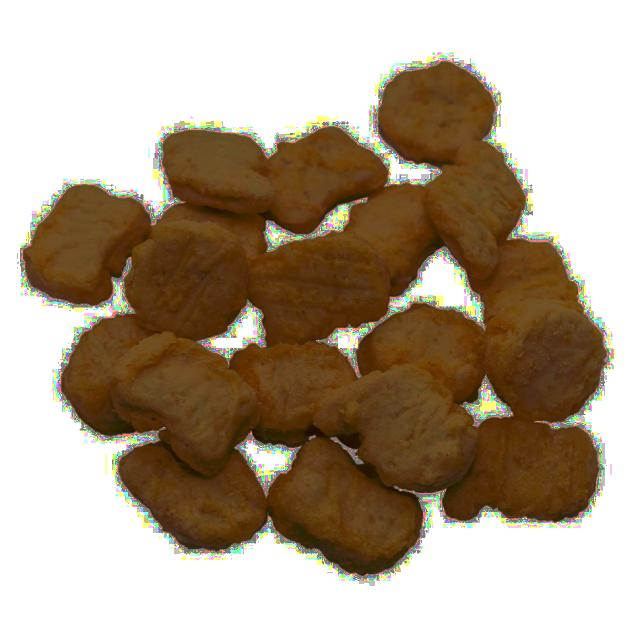chicken_nuggets: (265, 426, 424, 588), (302, 360, 478, 495), (436, 411, 602, 554), (112, 332, 250, 473), (26, 164, 148, 321), (246, 231, 396, 354), (366, 41, 501, 172), (261, 101, 384, 239), (128, 225, 269, 338), (478, 300, 600, 420), (430, 143, 530, 286), (149, 116, 281, 224)
